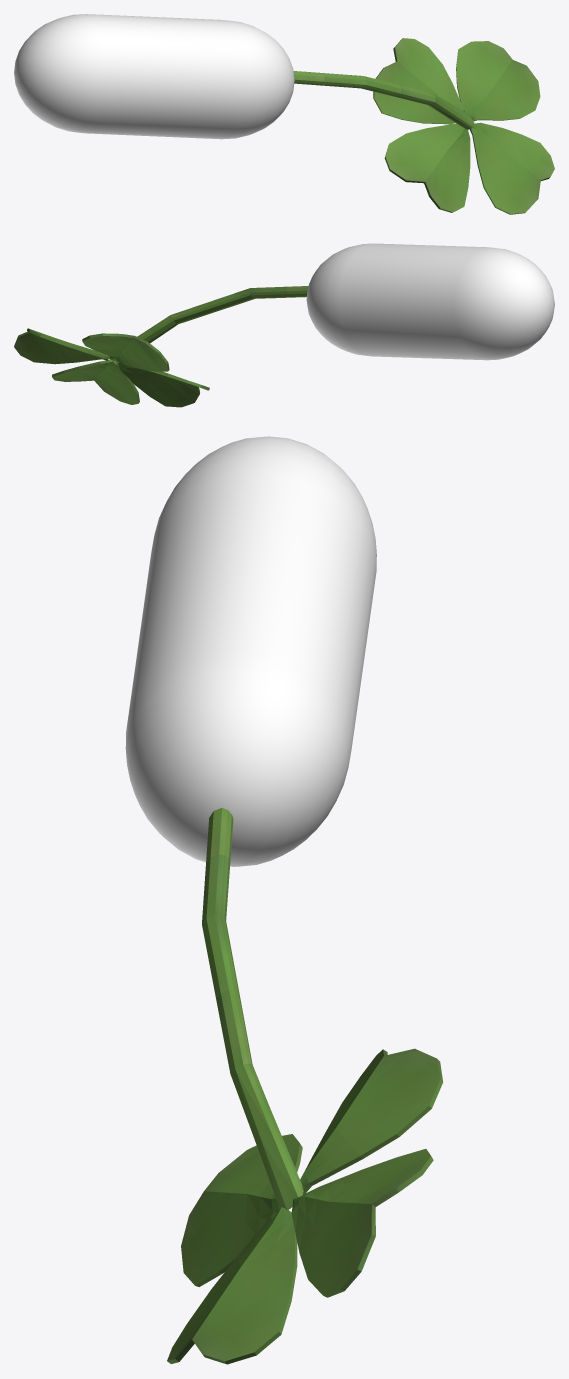
The model's file is FourLeafCloverAnchor.fbx.
3 renders of one model, top to bottom at view 1: azimuth 30°, elevation 25°; view 2: azimuth 150°, elevation 25°; view 3: azimuth 270°, elevation 25°, orthographic. The views are drawn at different scales.
Visible parts, largest first — view 1: Capsule__2_, FOUR_LEAF_CLOVER; view 2: Capsule__2_, FOUR_LEAF_CLOVER; view 3: Capsule__2_, FOUR_LEAF_CLOVER.
Part boxes in pixels (<box>): Capsule__2_: <box>14,14,294,139</box>; FOUR_LEAF_CLOVER: <box>293,38,554,214</box>; Capsule__2_: <box>306,243,554,360</box>; FOUR_LEAF_CLOVER: <box>14,286,308,407</box>; Capsule__2_: <box>125,436,376,866</box>; FOUR_LEAF_CLOVER: <box>167,808,443,1364</box>.
Size of the model in its own units: 32.64 by 15.97 by 8.76.
